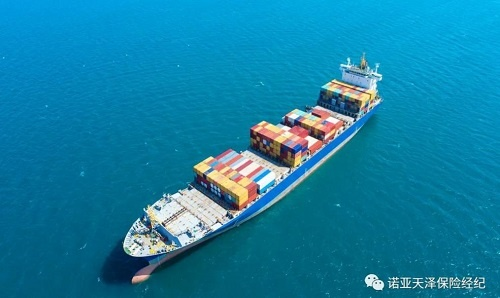Cargoship: (116, 54, 388, 278)
